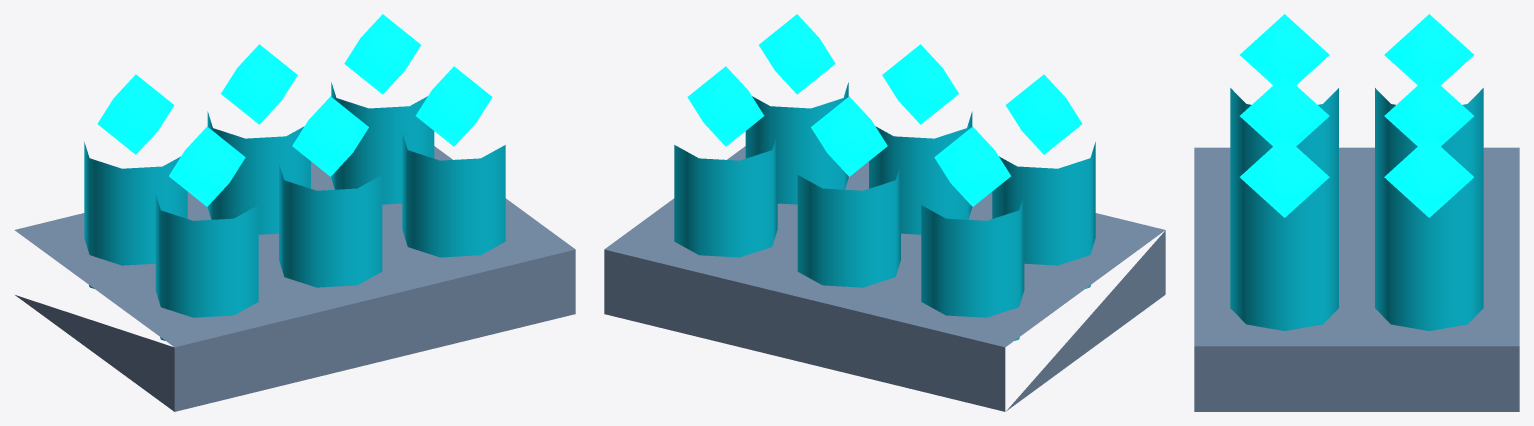
Rendered from diodos_led.glb.
The picture shows the model from 3 angles, left to right: view 1: azimuth 30°, elevation 25°; view 2: azimuth 150°, elevation 25°; view 3: azimuth 270°, elevation 25°; orthographic projection.
Parts seen in each view (by area): view 1: Base, Accent, Glow; view 2: Base, Accent, Glow; view 3: Base, Accent, Glow.
Boxes of the visible parts, bbox=[...] form: Base: bbox=[14, 146, 575, 411]; Accent: bbox=[84, 82, 505, 340]; Glow: bbox=[97, 14, 492, 206]; Base: bbox=[604, 146, 1165, 411]; Accent: bbox=[674, 82, 1095, 340]; Glow: bbox=[687, 14, 1082, 206]; Base: bbox=[1194, 147, 1519, 411]; Accent: bbox=[1230, 88, 1483, 330]; Glow: bbox=[1239, 14, 1474, 217].
Size of the model in its own units: 0.26 by 0.145 by 0.18.
